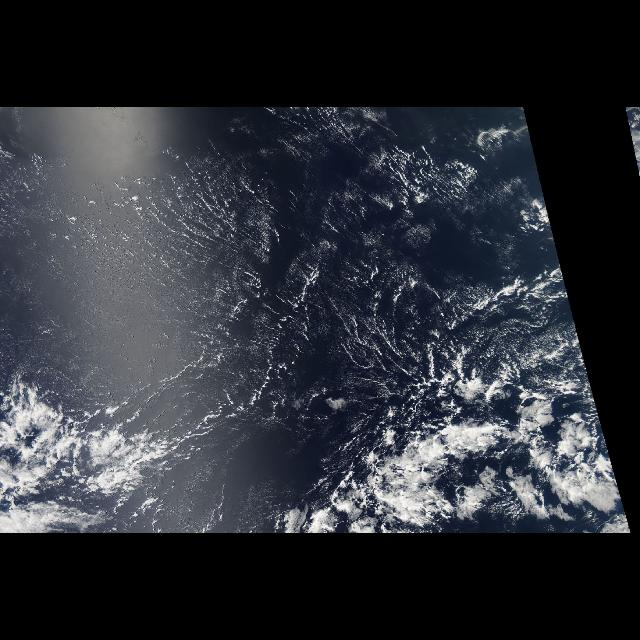Sugar: (12, 110, 594, 394)
